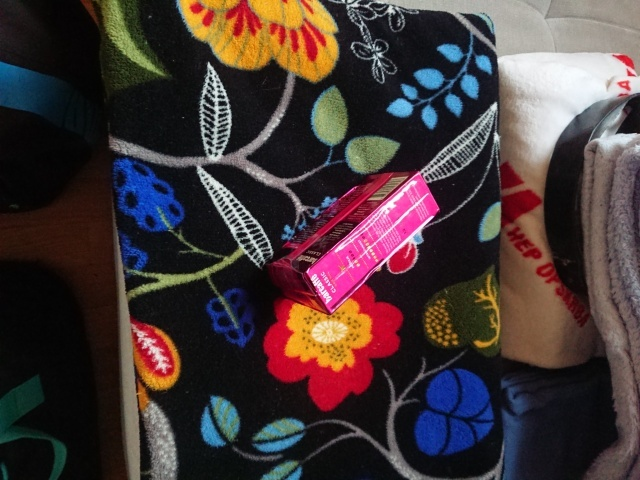Barcaffe Classic Original 225g: (263, 169, 443, 318)
